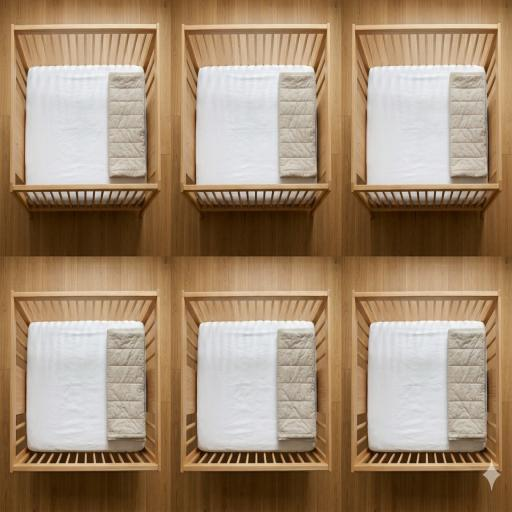crib: (182, 24, 331, 215), (352, 24, 501, 215), (11, 24, 160, 215), (10, 291, 160, 471), (352, 291, 502, 471), (181, 291, 330, 471)
